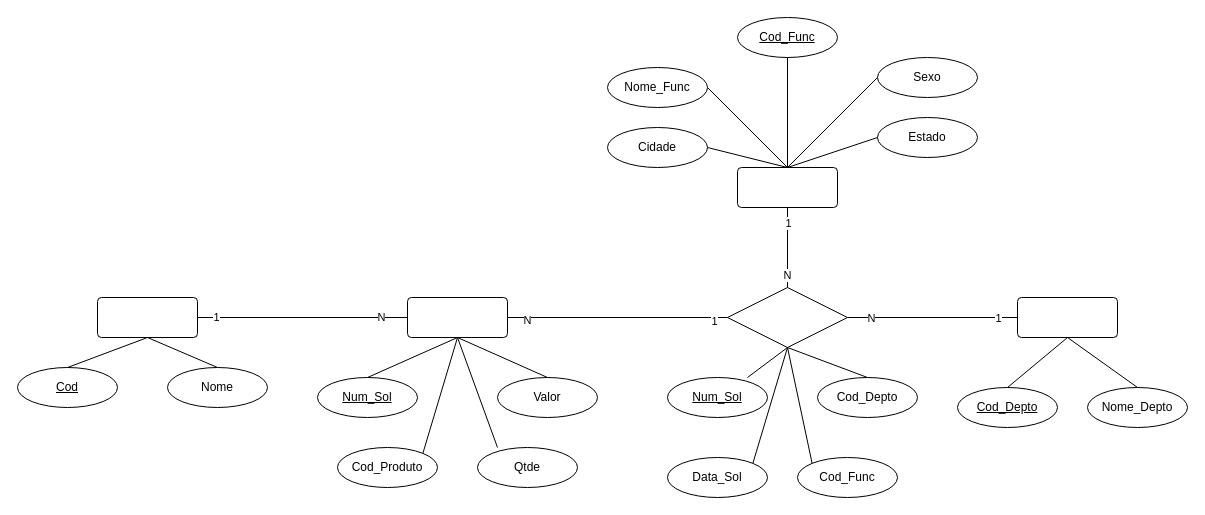
Some shapes in this 1205 by 515 pixel diagram are drawn without their labels. The shapes that lost their labels are listed below. From the top down, each one's centre as x and y in pixels, then its label:
At pixel 787 187: "Funcionarios".
At pixel 147 317: "Produtos".
At pixel 457 317: "itens_solicitacao".
At pixel 787 317: "Solicitacoes".
At pixel 1067 317: "Departamentos".
